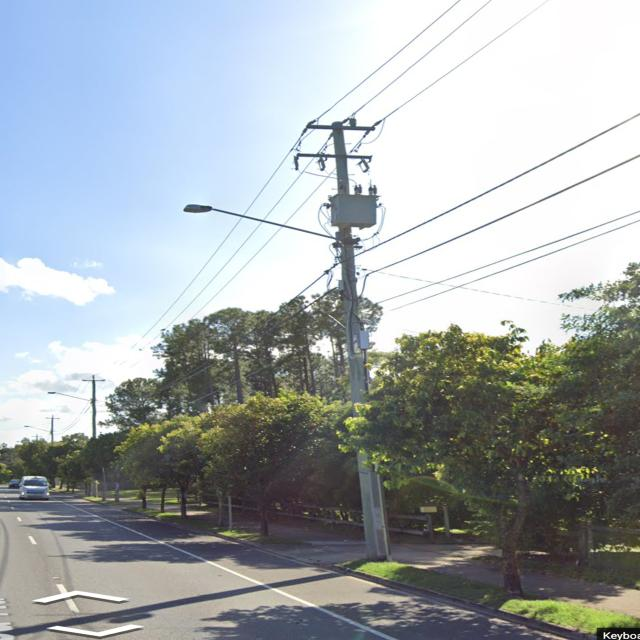HV-transmission: (292, 116, 382, 172)
crossarm: (293, 151, 372, 171), (305, 118, 376, 132)
streetlight: (181, 202, 341, 241)
timber-pole: (330, 120, 390, 562)
transformer: (329, 184, 378, 228)
